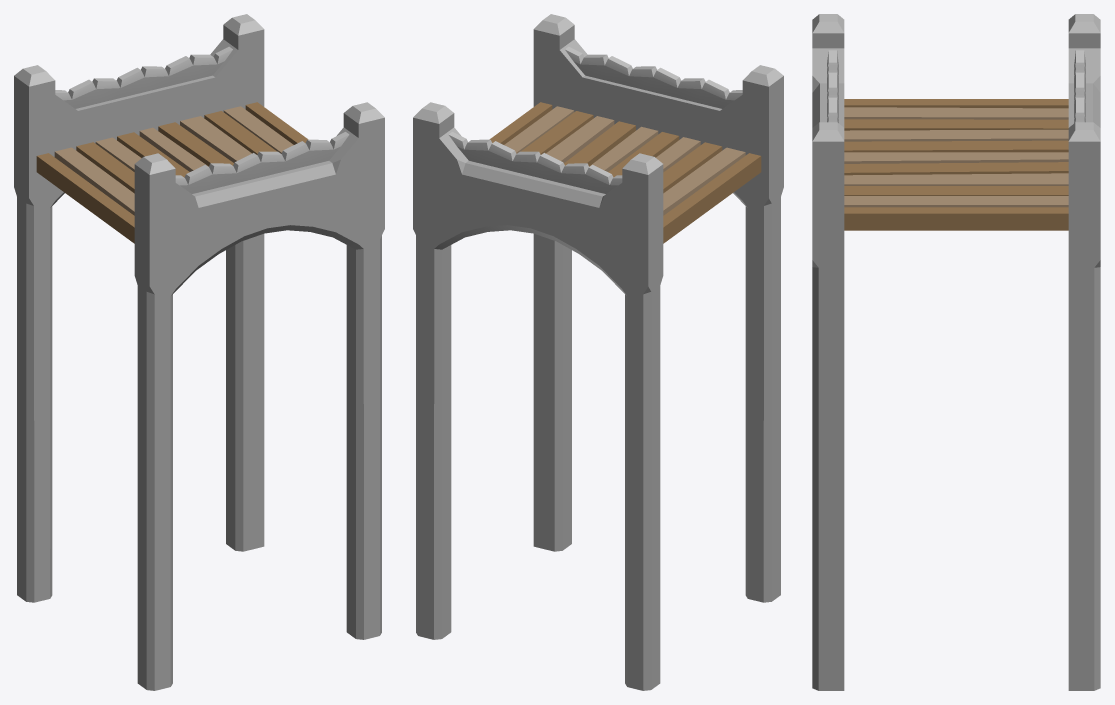
Rendered from bridge.fbx.
The picture shows the model from 3 angles, left to right: view 1: azimuth 30°, elevation 25°; view 2: azimuth 150°, elevation 25°; view 3: azimuth 270°, elevation 25°; orthographic projection. The views are drawn at different scales.
Parts seen in each view (by area): view 1: Bridge Main; view 2: Bridge Main; view 3: Bridge Main.
Part boxes in pixels (x1,y1,x2,y2): Bridge Main: (14, 14, 384, 690); Bridge Main: (413, 14, 783, 690); Bridge Main: (812, 14, 1100, 690).
Size of the model in its own units: 225 by 480 by 225.
